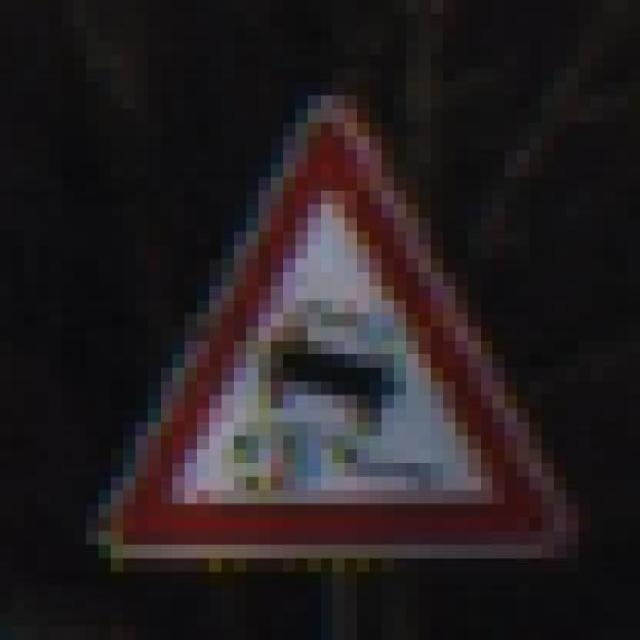Slippery Road Ahead: (86, 95, 579, 572)
